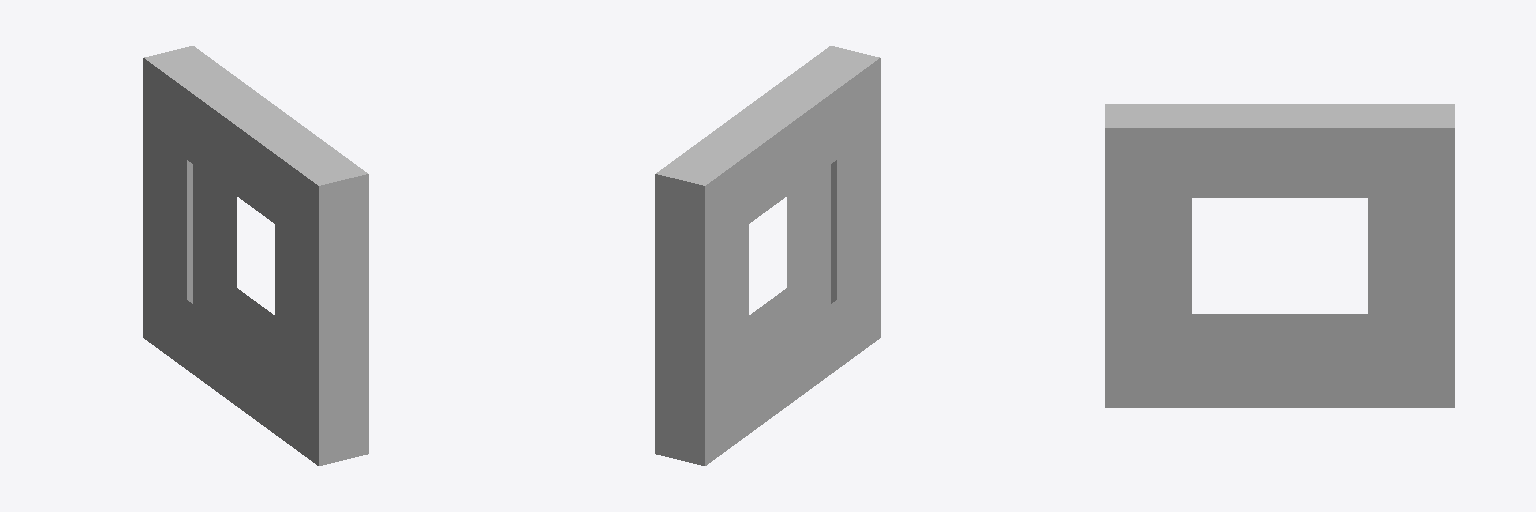
File: Fenêtres.obj
3 renders of one model, left to right at view 1: azimuth 30°, elevation 25°; view 2: azimuth 150°, elevation 25°; view 3: azimuth 270°, elevation 25°, orthographic.
Visible parts, largest first — view 1: Cube; view 2: Cube; view 3: Cube.
Part boxes in pixels (x1,y1,x2,y2): Cube: (143, 46, 368, 465); Cube: (655, 46, 880, 465); Cube: (1105, 104, 1454, 407).
Bounding box in the file's own units: 2 × 10.76 × 12.19.